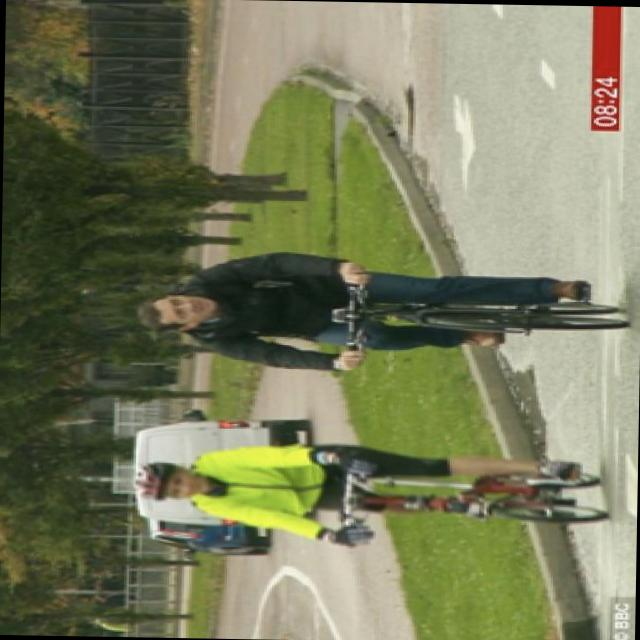bareface: (132, 283, 224, 336)
